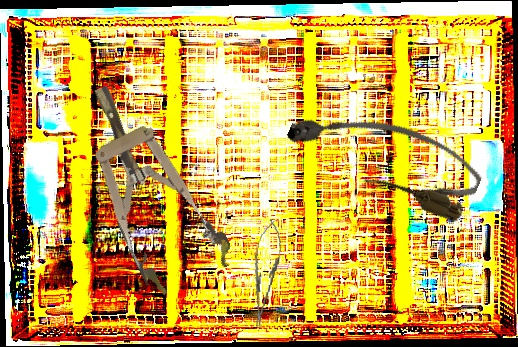Cannula: (280, 84, 490, 227)
Needle Holder: (244, 217, 286, 331)
Speculum: (59, 67, 239, 302)
